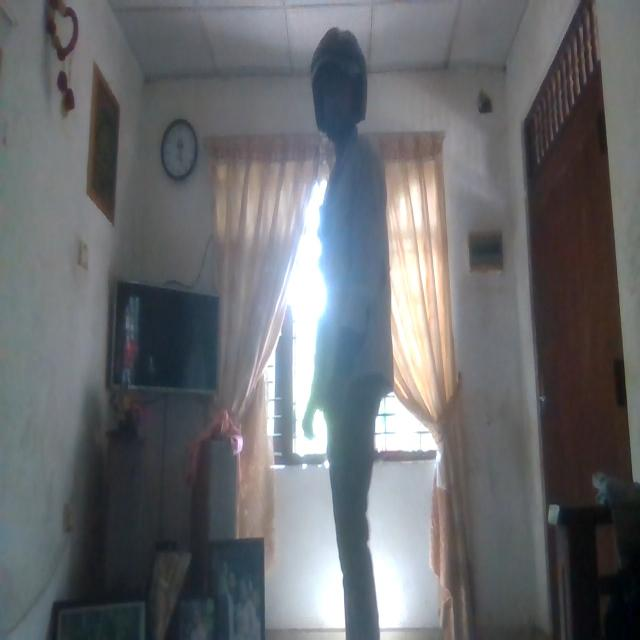Helmet_Wearer: (308, 28, 372, 146)
Jacket_Wearer: (309, 140, 397, 430)
Person: (300, 23, 402, 640)
